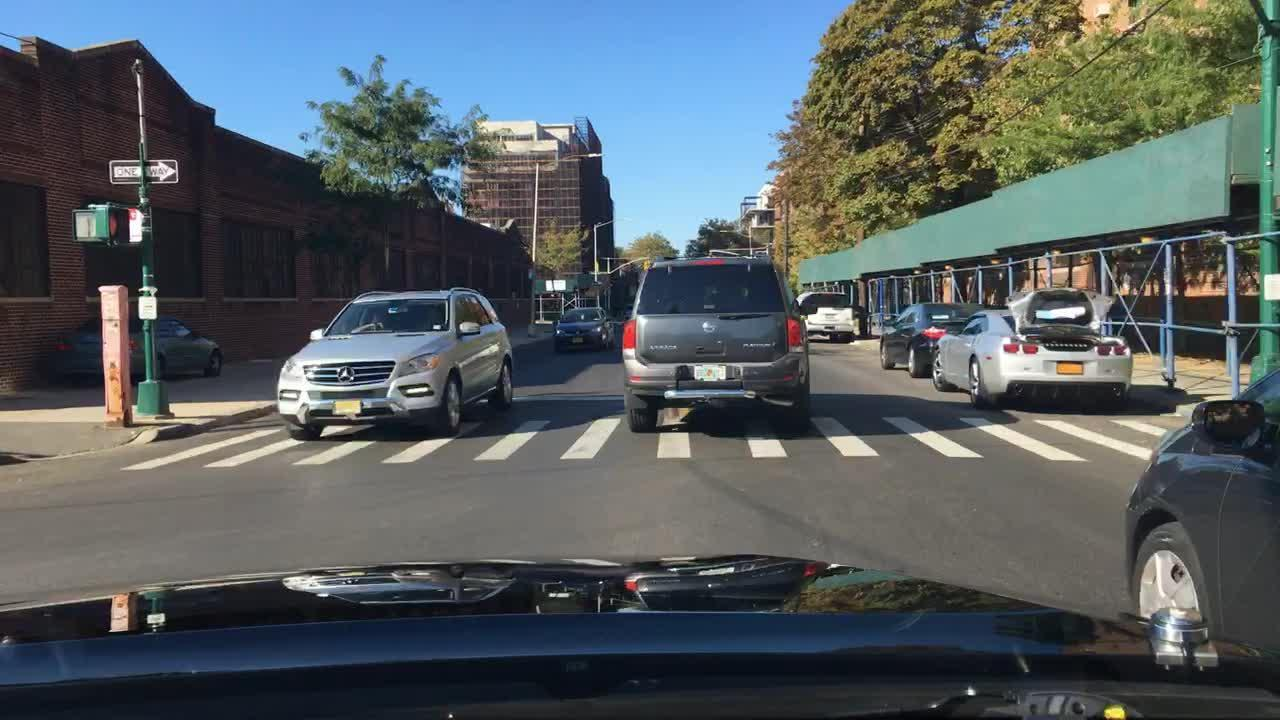Mercedes: (329, 364, 363, 386)
